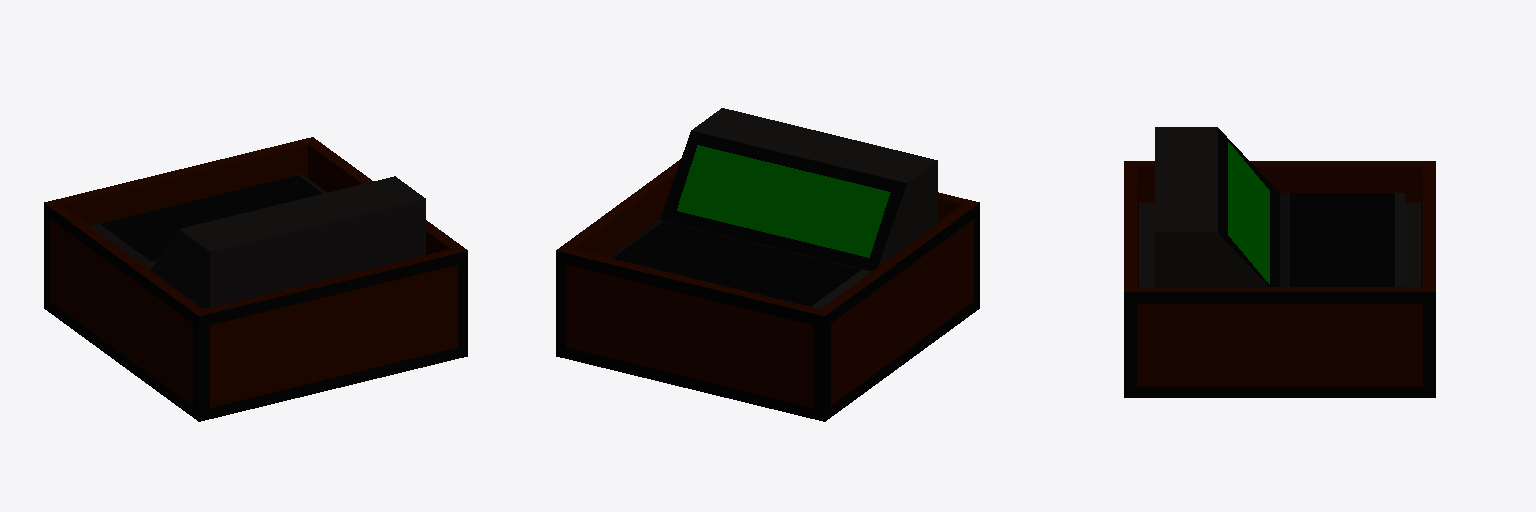
The model's file is reviver.obj.
3 renders of one model, left to right at view 1: azimuth 30°, elevation 25°; view 2: azimuth 150°, elevation 25°; view 3: azimuth 270°, elevation 25°, orthographic.
Visible parts, largest first — view 1: Cube.001; view 2: Cube.001; view 3: Cube.001.
Boxes of the visible parts, x1,y1,x2,y2 form: Cube.001: [44, 137, 467, 421]; Cube.001: [556, 108, 979, 421]; Cube.001: [1124, 127, 1435, 397].
Size of the model in its own units: 0.4922 by 0.2661 by 0.4922.